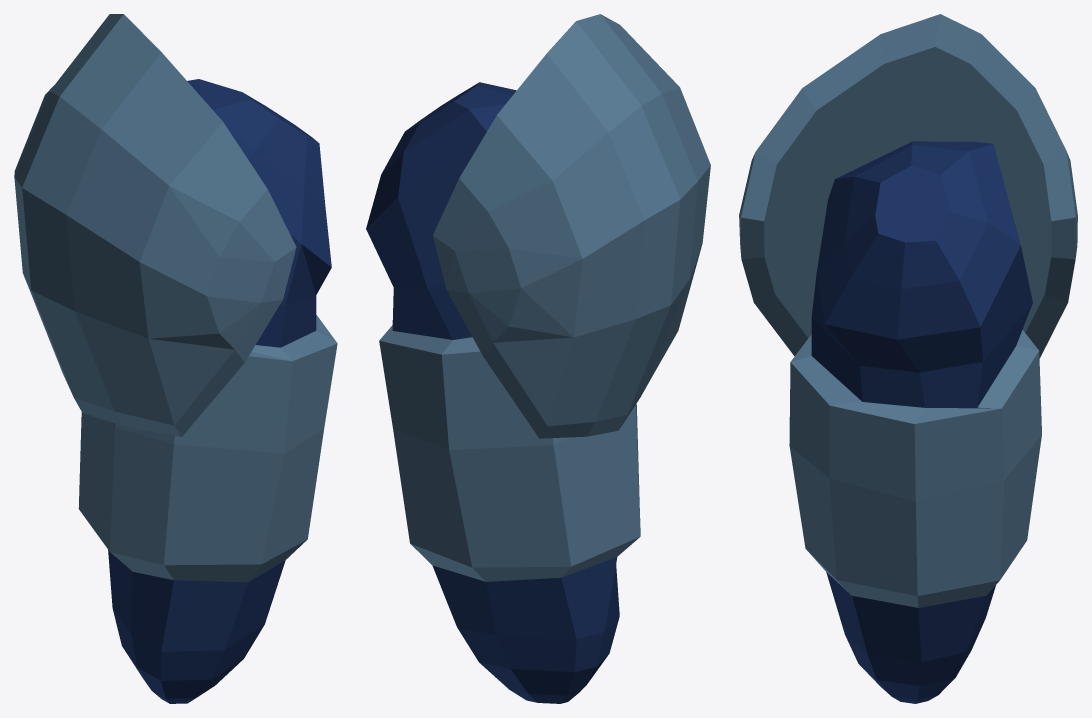
File: left_upper_arm.fbx
3 views of the same model, side by side, from view 1: azimuth 30°, elevation 25°; view 2: azimuth 150°, elevation 25°; view 3: azimuth 270°, elevation 25° (orthographic). The views are drawn at different scales.
Visible parts, largest first — view 1: left_arm_upperarm; view 2: left_arm_upperarm; view 3: left_arm_upperarm.
Boxes of the visible parts, x1=… form: left_arm_upperarm: x1=14, y1=14, x2=337, y2=703; left_arm_upperarm: x1=366, y1=14, x2=710, y2=703; left_arm_upperarm: x1=739, y1=14, x2=1077, y2=703.
Size of the model in its own units: 0.1804 by 0.4114 by 0.1906.
